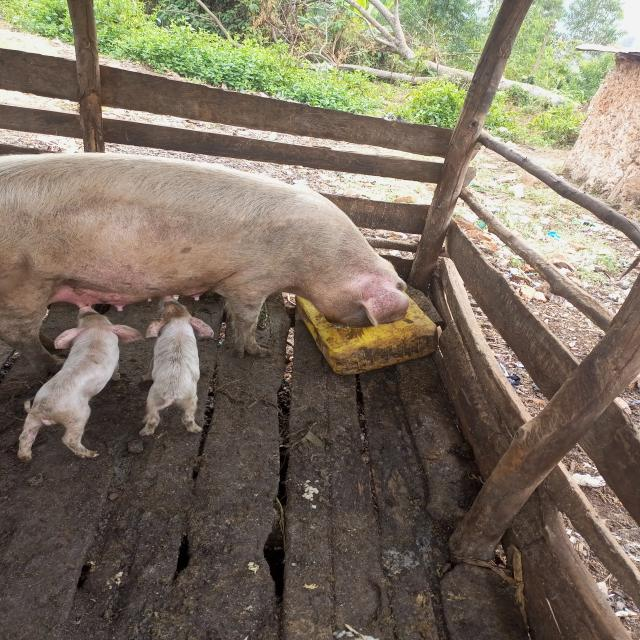pig: (0, 120, 449, 383)
